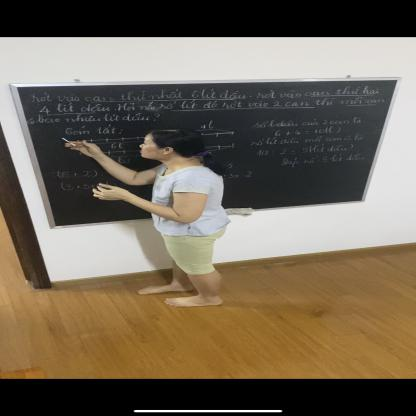cigarette: (61, 137, 76, 147)
person: (64, 127, 237, 312)
